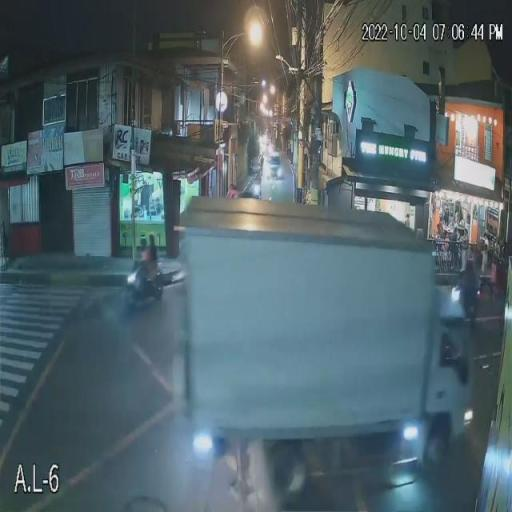helmet: (134, 231, 148, 248)
motorcycle: (434, 277, 476, 326), (125, 262, 169, 307)
rider: (456, 248, 480, 305), (137, 234, 160, 291)
